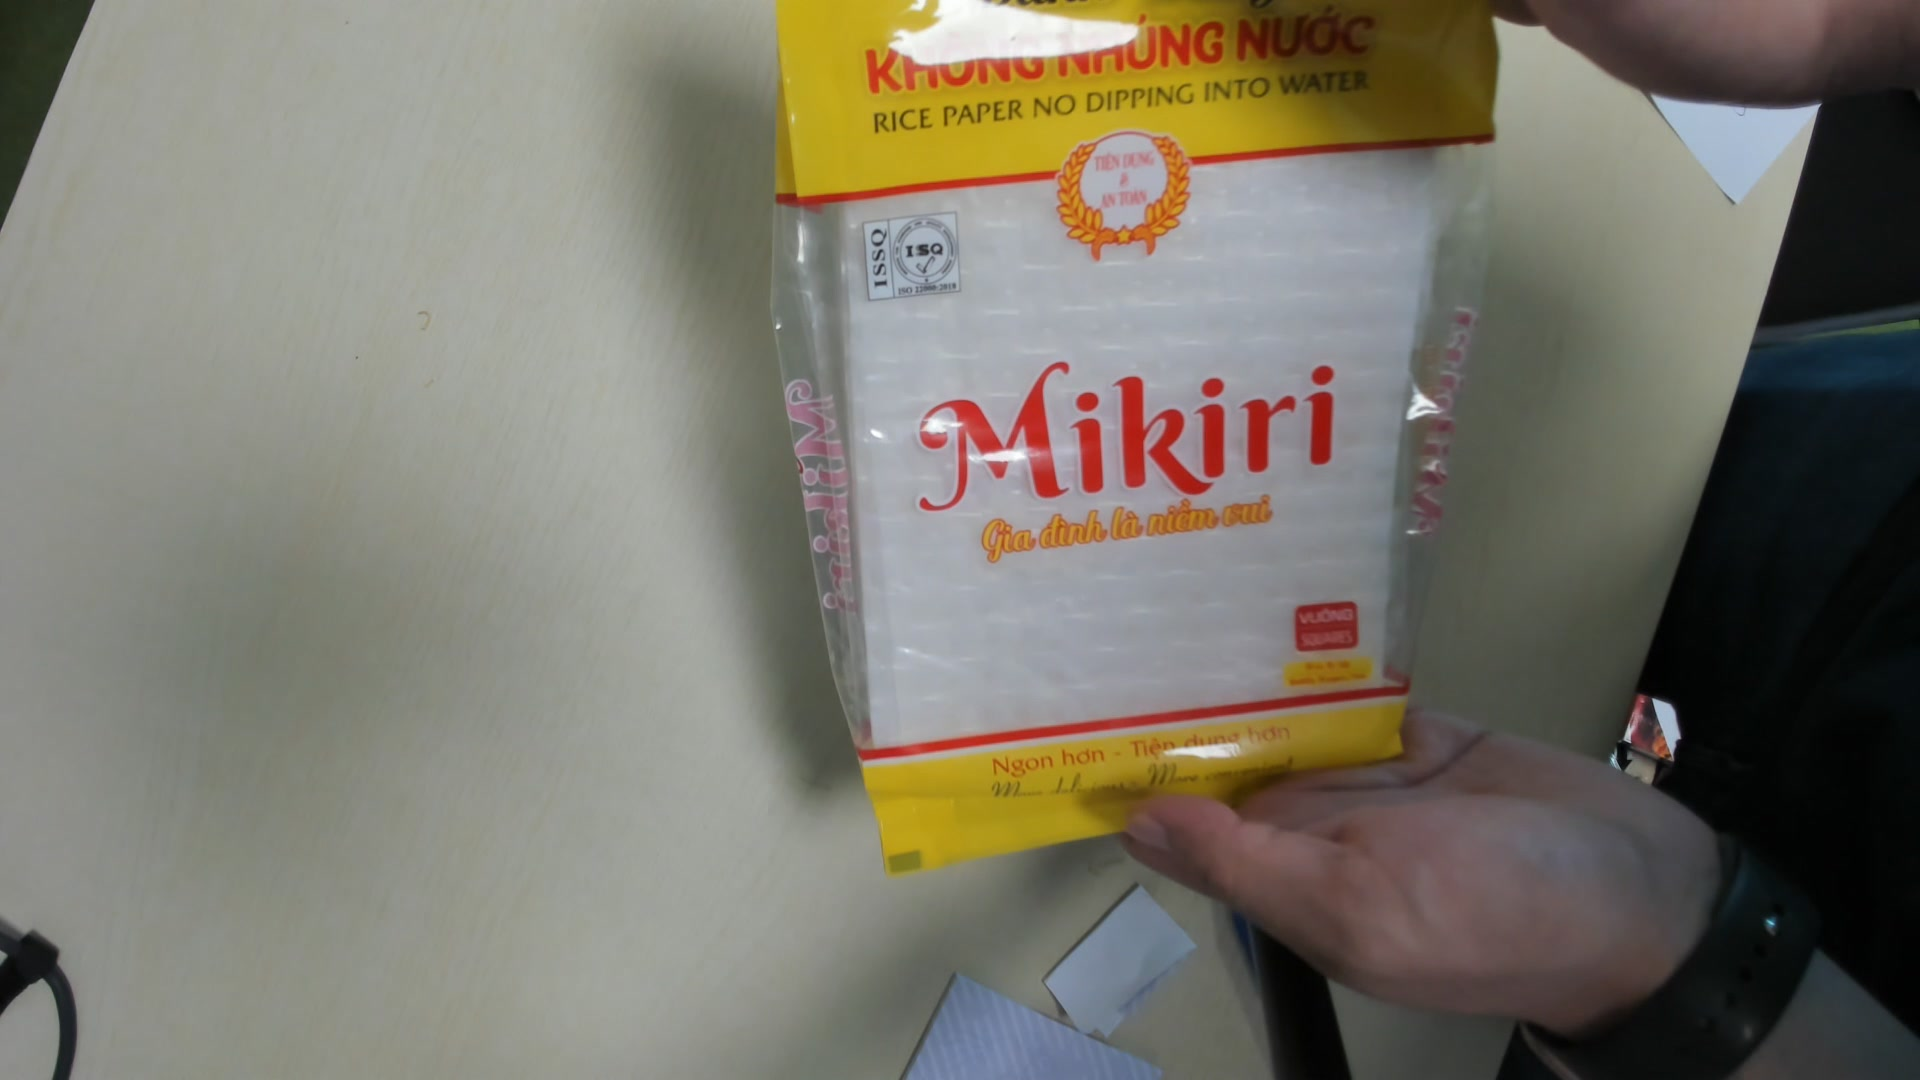InstantMeals_200_299g_NonHalal_NonHealthy: (769, 1, 1509, 881)
